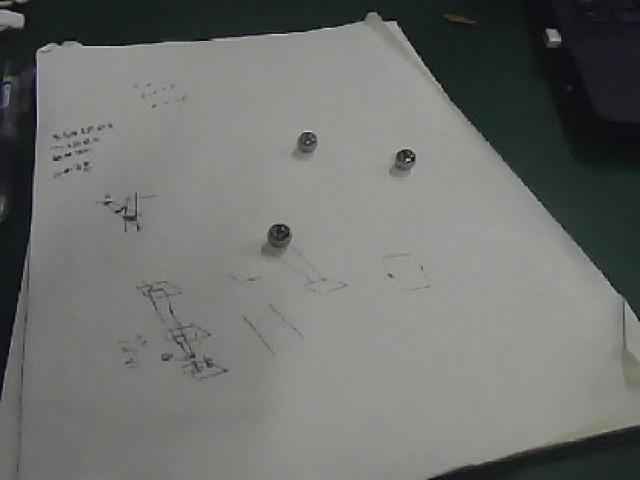steel-ball: (275, 109, 323, 165), (240, 212, 303, 252), (377, 129, 428, 174)
